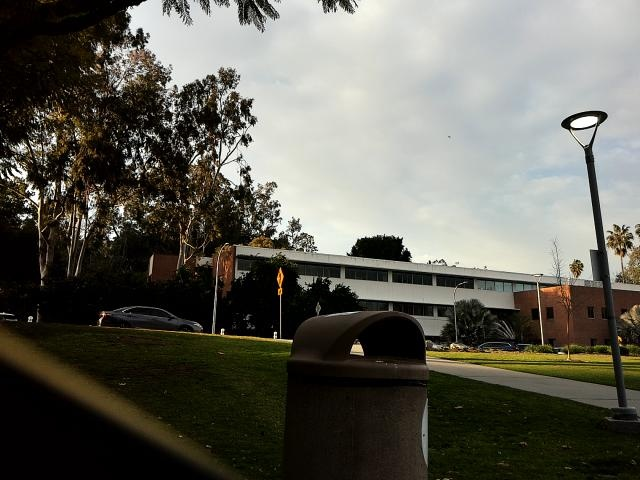trashcan: (278, 301, 438, 480)
